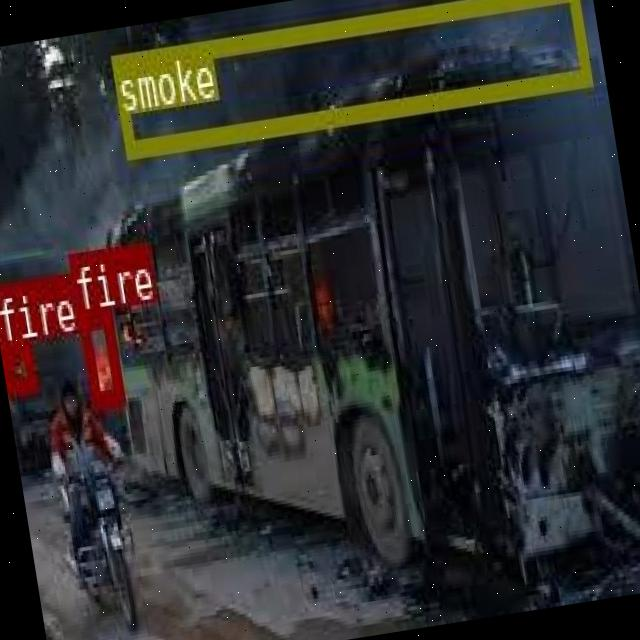fire: (77, 309, 124, 407), (0, 340, 37, 392)
smoke: (110, 0, 590, 155)
